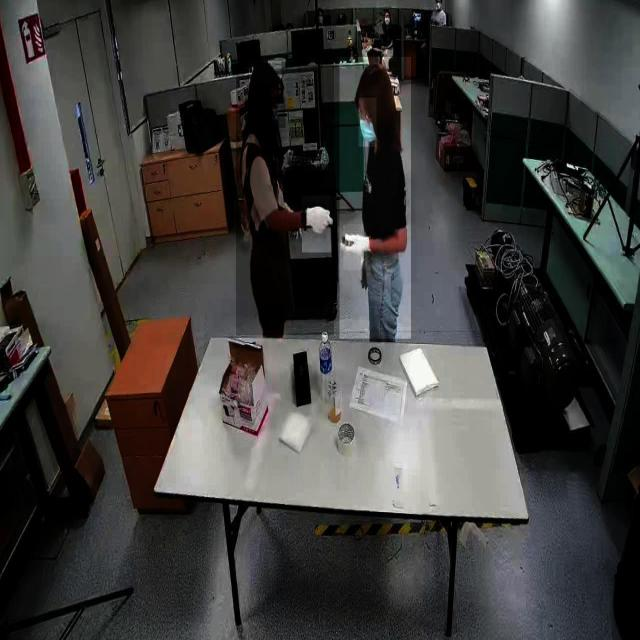face_mask: (358, 98, 376, 146), (263, 97, 285, 128), (383, 15, 391, 30), (436, 0, 442, 11)
hand_glove: (302, 196, 333, 253), (343, 224, 371, 271)
head_nohelmet: (355, 60, 392, 90), (249, 61, 282, 83), (384, 9, 389, 12)
person: (236, 62, 334, 336), (339, 57, 412, 339), (377, 0, 397, 62), (431, 0, 449, 28)
